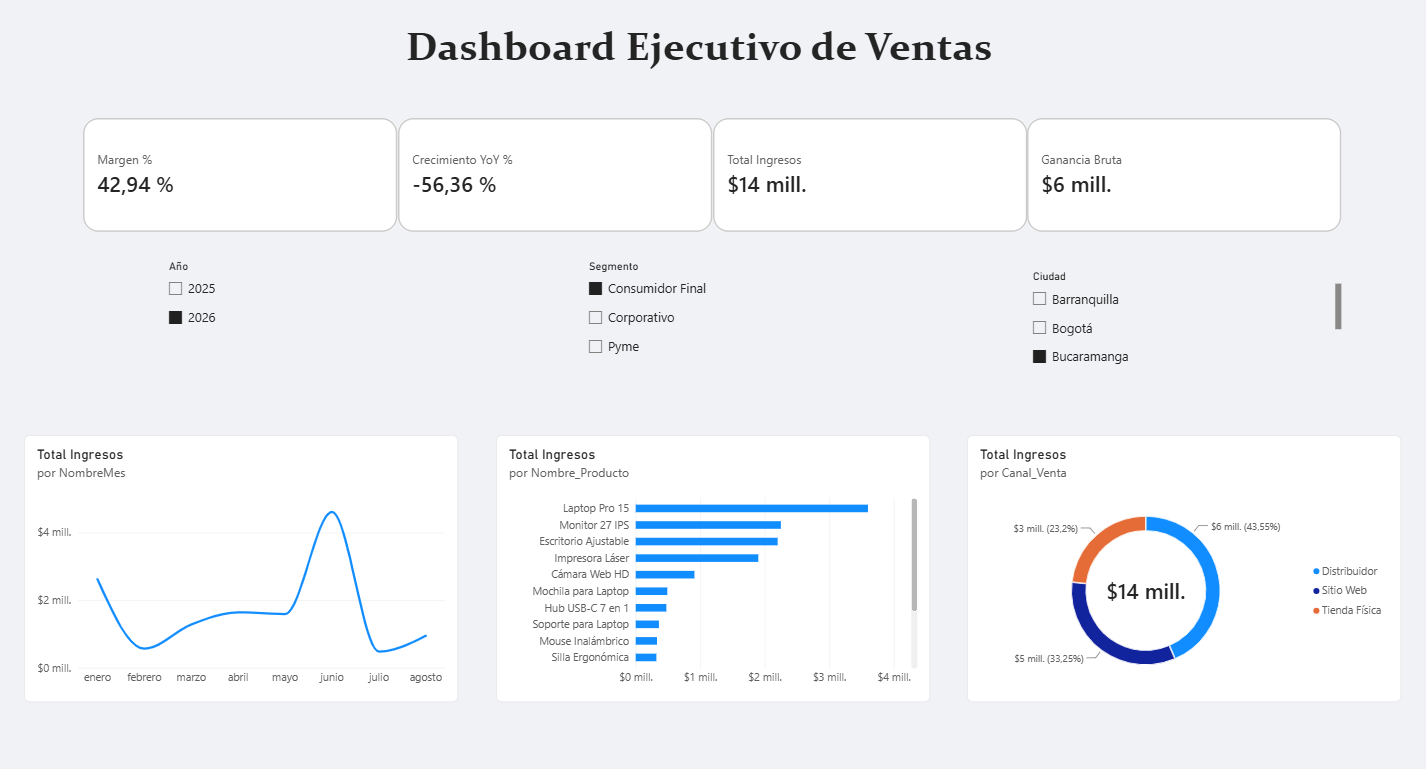

The dashboard page shown, as its layout file describes it:
{"tool":"powerbi","page":{"name":"Página 1","canvas":[1920,1080],"ordinal":0},"visuals":[{"type":"textbox","box":[552.9,46.7,808.3,65.7],"z":0},{"type":"slicer","fields":{"Values":["Dim_Calendario.Año"]},"box":[233.4,360.4,309.3,150.3],"z":1},{"type":"slicer","fields":{"Values":["Dim_Clientes.Segmento"]},"box":[786.4,360.4,414,150],"z":2},{"type":"slicer","fields":{"Values":["Dim_Clientes.Ciudad"]},"box":[1371.4,373.5,414.3,125.5],"z":3},{"type":"cardVisual","fields":{"Data":["_Medidas.Crecimiento YoY %"]},"box":[542.7,173.6,414,150],"z":4},{"type":"cardVisual","fields":{"Data":["_Medidas.Total Ingresos"]},"box":[957.1,173.6,414.3,150.3],"z":5},{"type":"cardVisual","fields":{"Data":["_Medidas.Margen %"]},"box":[128.4,173.6,414.3,150.3],"z":6},{"type":"cardVisual","fields":{"Data":["_Medidas.Ganancia Bruta"]},"box":[1371.4,173.6,414.3,150.3],"z":7},{"type":"lineChart","fields":{"Category":["Dim_Calendario.NombreMes"],"Y":["_Medidas.Total Ingresos"]},"box":[49.6,590.9,571.9,351.6],"z":8},{"type":"clusteredBarChart","fields":{"Category":["Dim_Productos.Nombre_Producto"],"Y":["_Medidas.Total Ingresos"]},"box":[671.1,590.9,571.9,351.6],"z":9},{"type":"donutChart","fields":{"Category":["Fact_Ventas.Canal_Venta"],"Y":["_Medidas.Total Ingresos"]},"box":[1292.6,590.9,571.9,351.6],"z":10}]}

Visuals, with their boxes on the page's 1920x1080 design canvas (x1, y1, x2, y2). These are canvas units, not pixel positions in the 1426x769 screenshot, which may show the page scaled, cropped or inside an application window:
textbox: rect(553, 47, 1361, 112)
slicer - Dim_Calendario.Año: rect(233, 360, 543, 511)
slicer - Dim_Clientes.Segmento: rect(786, 360, 1200, 510)
slicer - Dim_Clientes.Ciudad: rect(1371, 374, 1786, 499)
cardVisual - _Medidas.Crecimiento YoY %: rect(543, 174, 957, 324)
cardVisual - _Medidas.Total Ingresos: rect(957, 174, 1371, 324)
cardVisual - _Medidas.Margen %: rect(128, 174, 543, 324)
cardVisual - _Medidas.Ganancia Bruta: rect(1371, 174, 1786, 324)
lineChart - Dim_Calendario.NombreMes x _Medidas.Total Ingresos: rect(50, 591, 622, 942)
clusteredBarChart - Dim_Productos.Nombre_Producto x _Medidas.Total Ingresos: rect(671, 591, 1243, 942)
donutChart - Fact_Ventas.Canal_Venta x _Medidas.Total Ingresos: rect(1293, 591, 1864, 942)
